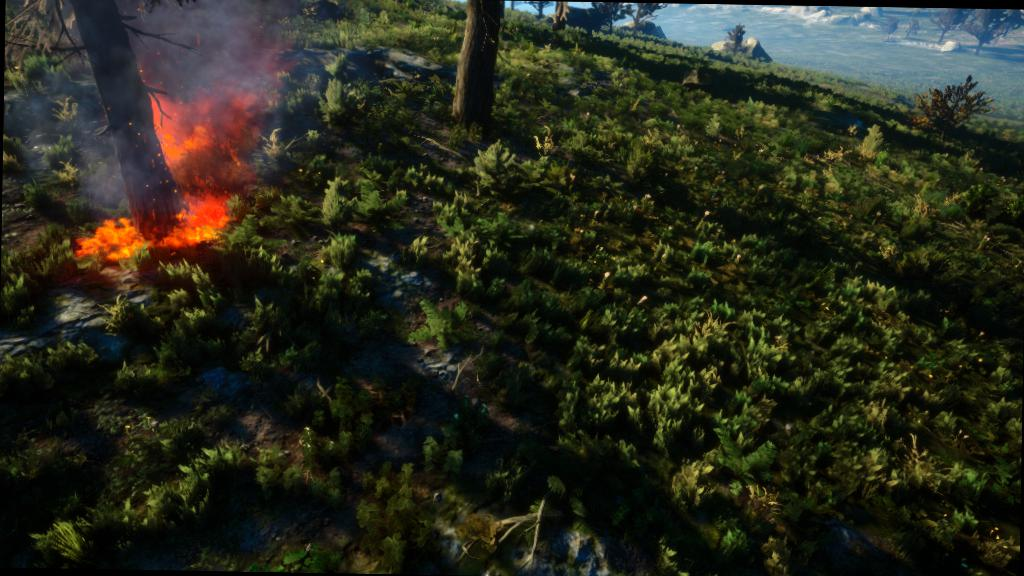Fire: (72, 96, 252, 270)
smoke: (1, 0, 326, 213)
